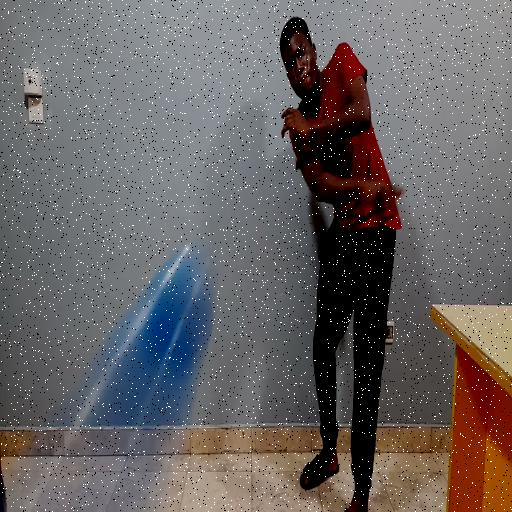plastic-ball: (71, 246, 213, 426)
